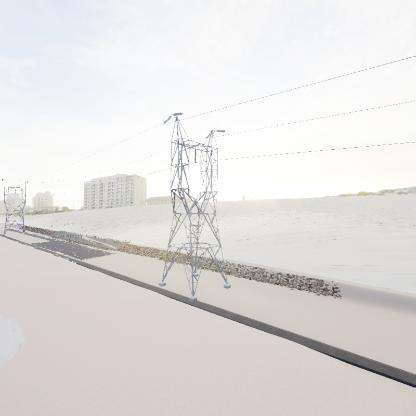tower: (155, 107, 233, 305), (2, 175, 29, 241)
